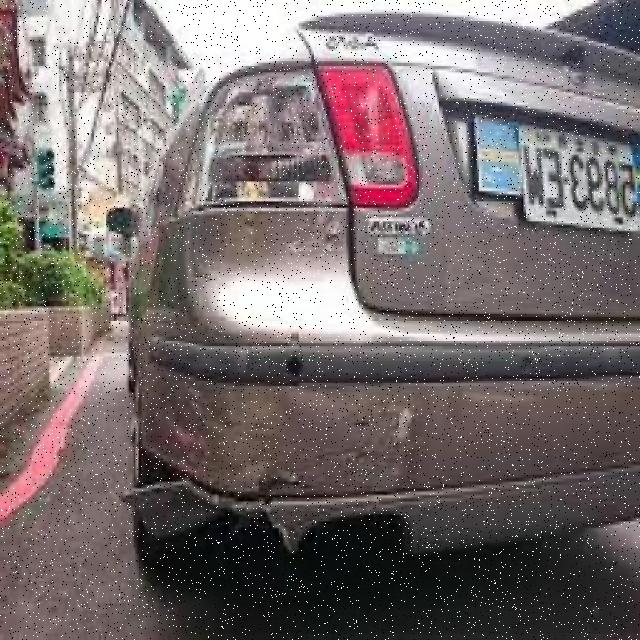damage: (138, 365, 420, 564)
